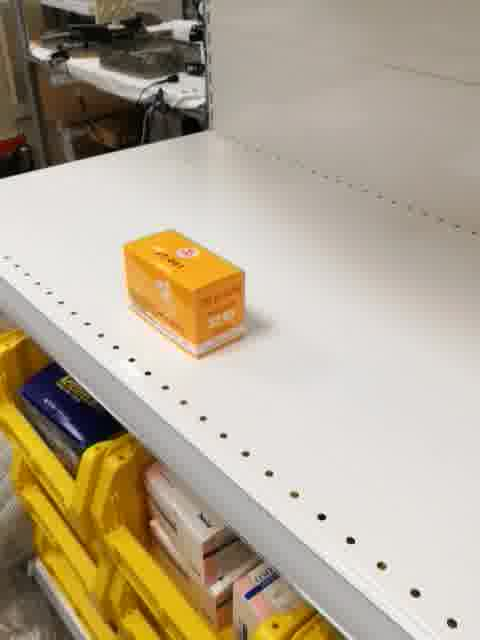jasminetea: (123, 223, 248, 364)
